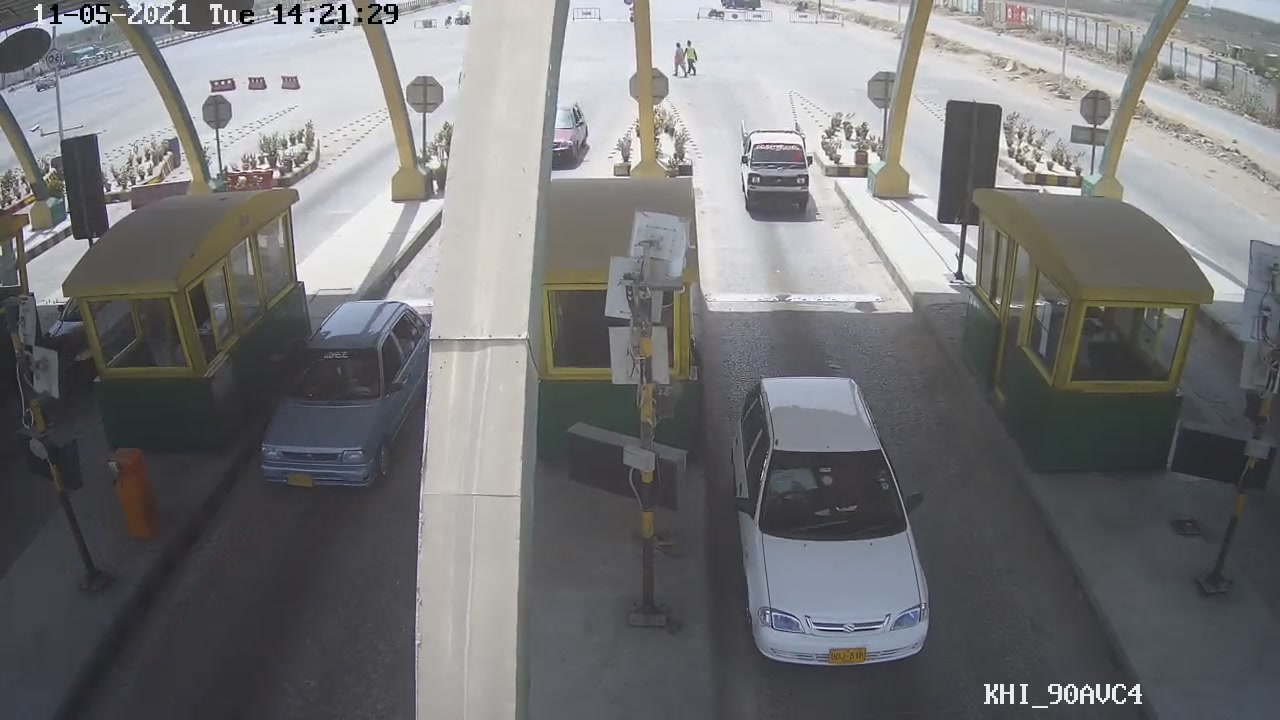F1: (725, 367, 937, 672)
